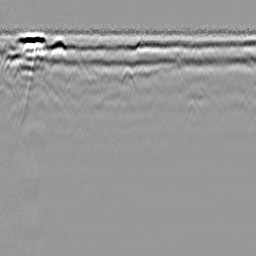cavity: (117, 66, 138, 96)
